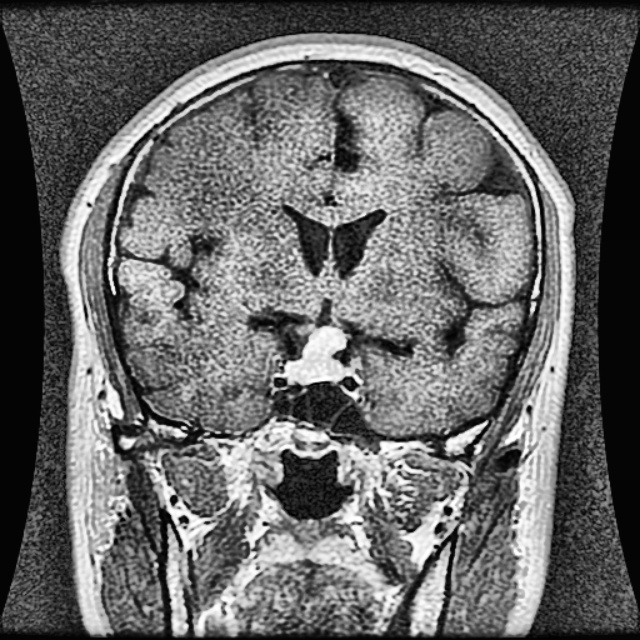Pituitary: (289, 328, 345, 380)
